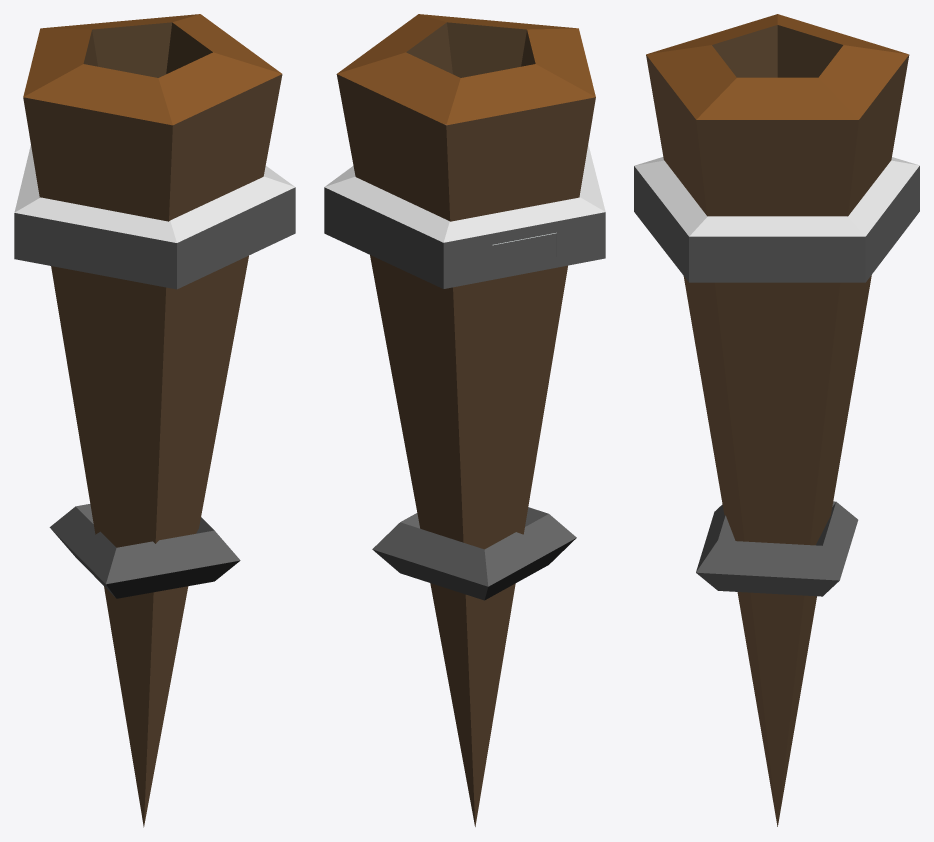
Rendered from TorchNoBracket.fbx.
The picture shows the model from 3 angles, left to right: view 1: azimuth 30°, elevation 25°; view 2: azimuth 150°, elevation 25°; view 3: azimuth 270°, elevation 25°; orthographic projection.
Visible parts, largest first — view 1: pCone3; view 2: pCone3; view 3: pCone3.
Part boxes in pixels (<box>): pCone3: <box>14,14,295,827</box>; pCone3: <box>324,14,605,826</box>; pCone3: <box>634,14,919,826</box>.
Size of the model in its own units: 12.81 by 40.21 by 13.46.
Materials: 1 (1 with a texture image).
